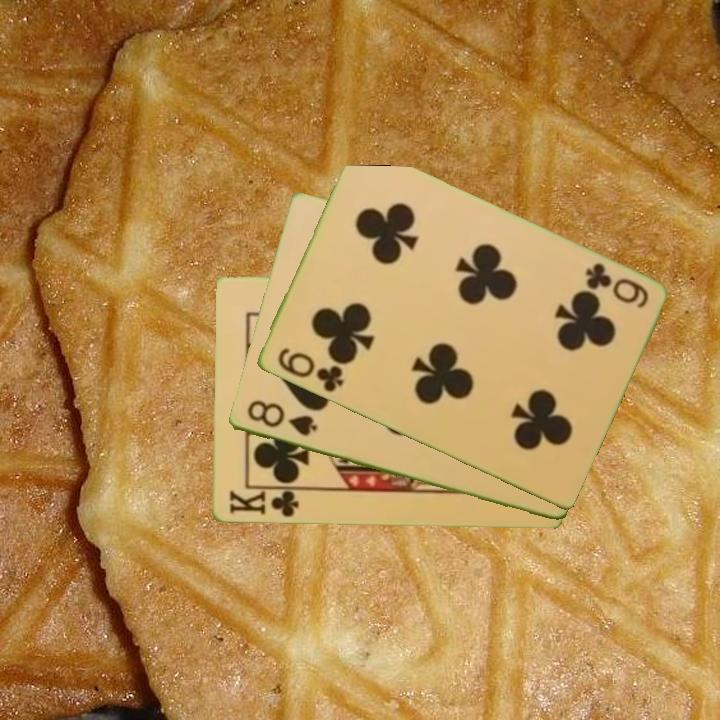6c: (273, 344, 346, 396), (581, 259, 651, 312)
8s: (243, 397, 320, 439)
Kc: (225, 485, 305, 521)
